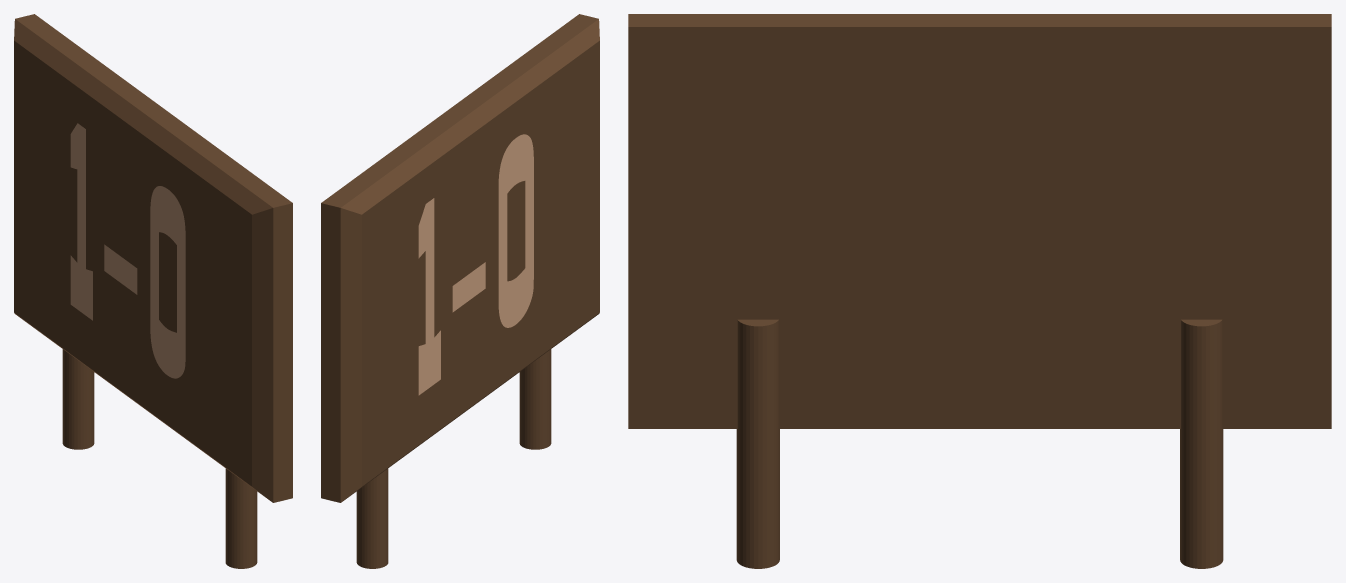
3 views of the same model, side by side, from view 1: azimuth 30°, elevation 25°; view 2: azimuth 150°, elevation 25°; view 3: azimuth 270°, elevation 25° (orthographic). The views are drawn at different scales.
Parts seen in each view (by area): view 1: Cube.007, Text, Cylinder, Cylinder.001; view 2: Cube.007, Text, Cylinder.001, Cylinder; view 3: Cube.007, Cylinder, Cylinder.001.
Boxes of the visible parts, x1,y1,x2,y2 form: Cube.007: [14, 14, 292, 502]; Text: [70, 123, 185, 378]; Cylinder: [62, 349, 94, 449]; Cylinder.001: [225, 468, 257, 568]; Cube.007: [321, 14, 599, 502]; Text: [418, 134, 533, 395]; Cylinder.001: [519, 349, 551, 449]; Cylinder: [356, 468, 388, 568]; Cube.007: [628, 14, 1331, 428]; Cylinder: [1180, 319, 1223, 568]; Cylinder.001: [736, 319, 779, 568].
Bounding box in the file's own units: 28.97 × 266 × 317.
